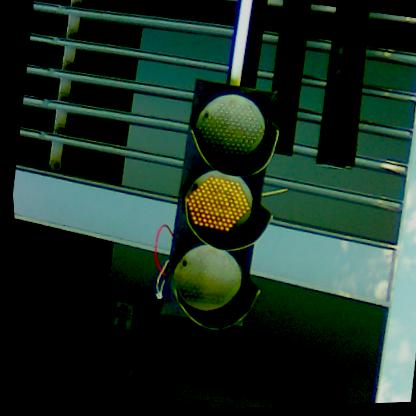yellow: (142, 77, 290, 332)
